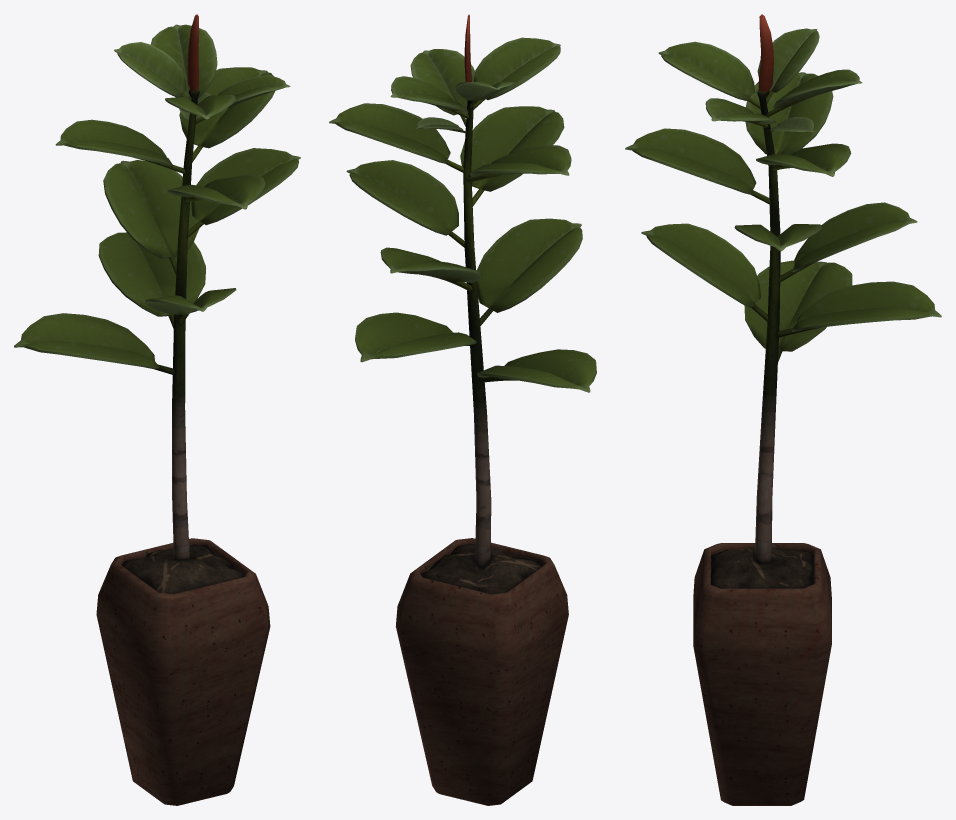
The model's file is tall_plant.glb.
3 views of the same model, side by side, from view 1: azimuth 30°, elevation 25°; view 2: azimuth 150°, elevation 25°; view 3: azimuth 270°, elevation 25° (orthographic).
Parts seen in each view (by area): view 1: Plant_Ficus_Pot_low.000; view 2: Plant_Ficus_Pot_low.000; view 3: Plant_Ficus_Pot_low.000.
Part boxes in pixels (left/top/right/bottom): Plant_Ficus_Pot_low.000: left=14, top=14, right=300, bottom=805; Plant_Ficus_Pot_low.000: left=329, top=14, right=596, bottom=805; Plant_Ficus_Pot_low.000: left=625, top=14, right=941, bottom=805.
Size of the model in its own units: 0.5642 by 1.57 by 0.5741.
Materials: 1 (1 with a texture image).
